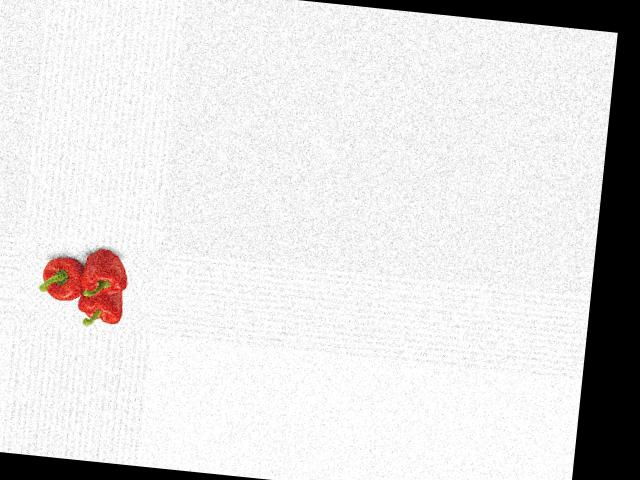bell_pepper: (34, 250, 91, 308)
